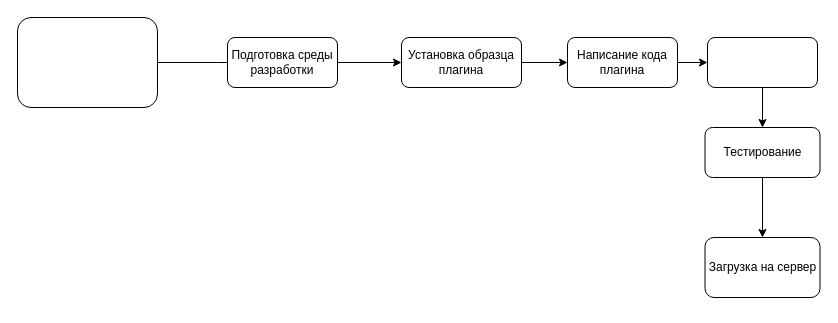
Some shapes in this 838 by 323 pixel diagram are drawn without their labels. Each missing label, with the centre of its shape:
"Сборка кода плагина" belongs at (x=762, y=62).
"Создание названия и определение логики плагина" belongs at (x=87, y=62).
